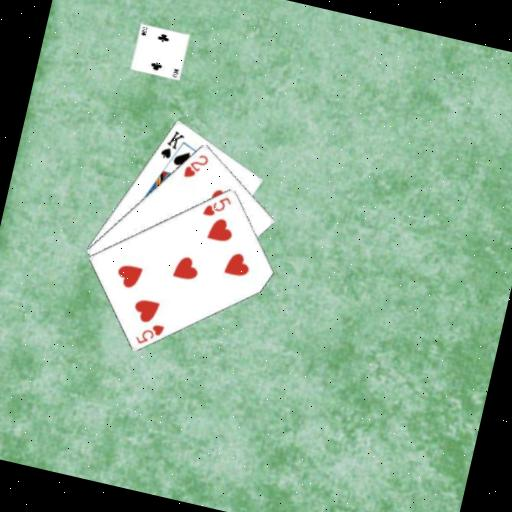2H: (179, 147, 212, 183)
5H: (132, 316, 167, 350), (199, 189, 234, 222)
KS: (156, 124, 187, 163)
